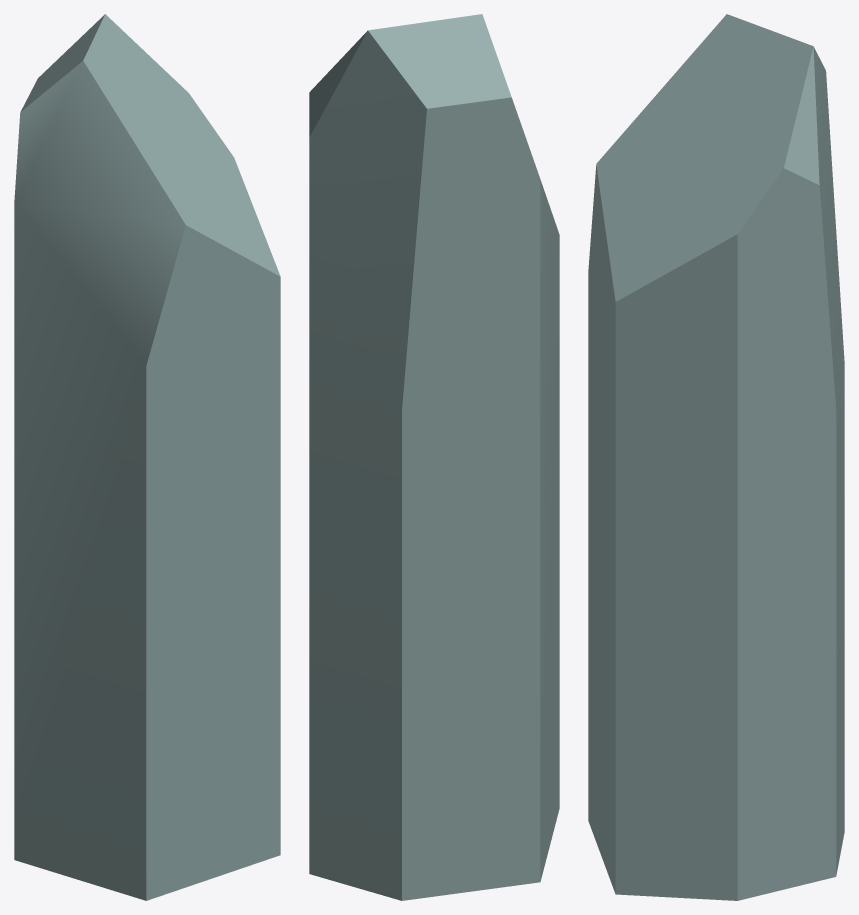
File: Cristal_03.fbx
3 views of the same model, side by side, from view 1: azimuth 30°, elevation 25°; view 2: azimuth 150°, elevation 25°; view 3: azimuth 270°, elevation 25° (orthographic). The views are drawn at different scales.
Visible parts, largest first — view 1: Cristal_03; view 2: Cristal_03; view 3: Cristal_03.
Boxes of the visible parts, <box> form: Cristal_03: <box>14,14,280,900</box>; Cristal_03: <box>309,14,559,900</box>; Cristal_03: <box>588,14,844,900</box>.
Bounding box in the file's own units: 2234 × 7741 × 2224.
